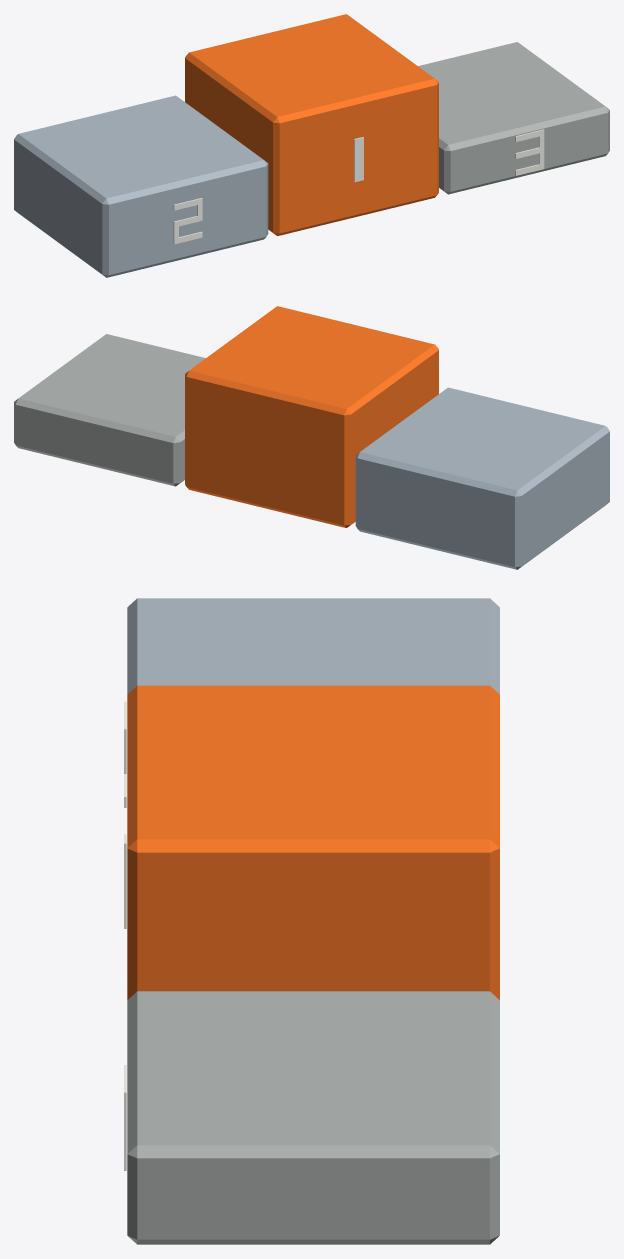
Rendered from winners_podium.glb.
The picture shows the model from 3 angles, top to bottom: view 1: azimuth 30°, elevation 25°; view 2: azimuth 150°, elevation 25°; view 3: azimuth 270°, elevation 25°; orthographic projection. The views are drawn at different scales.
Visible parts, largest first — view 1: winners_podium__static; view 2: winners_podium__static; view 3: winners_podium__static.
Part boxes in pixels (x1,y1,x2,y2): winners_podium__static: (14,14,609,277); winners_podium__static: (14,306,609,569); winners_podium__static: (124,598,499,1244).
Size of the model in its own units: 5.35 by 1.2 by 1.72.
